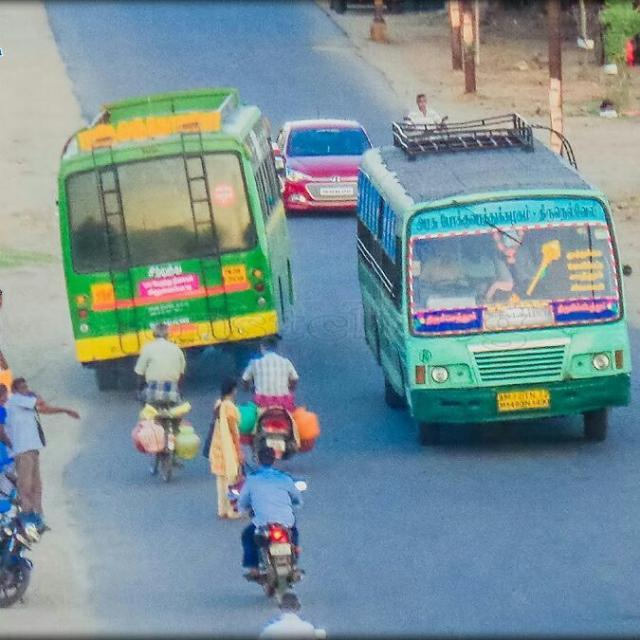Bus: (352, 118, 636, 444), (55, 86, 298, 389)
Car: (274, 110, 364, 211)
